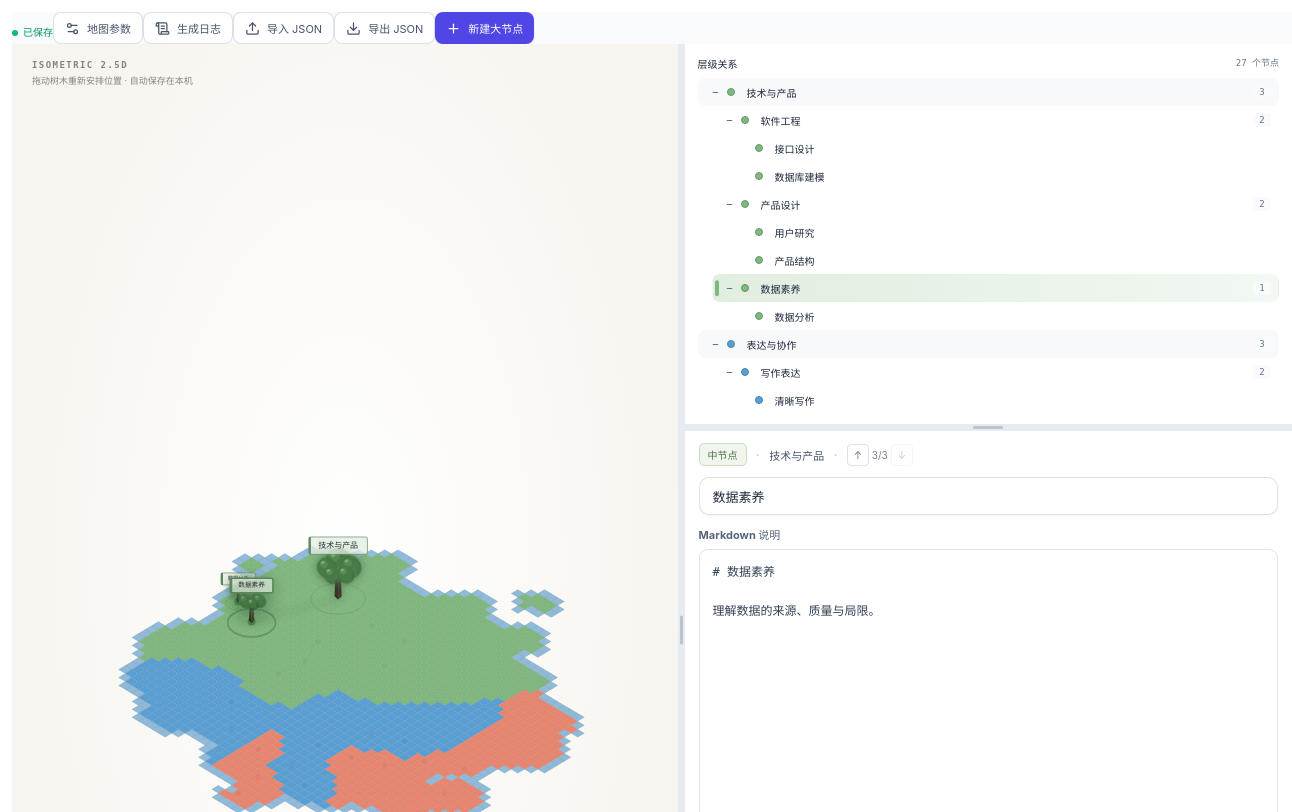
Test: AbilityForestView › shows the isometric map tools and prototype map controls
Click the button "地图参数" at [98, 28], box x1=53 y1=12 x2=143 y2=44
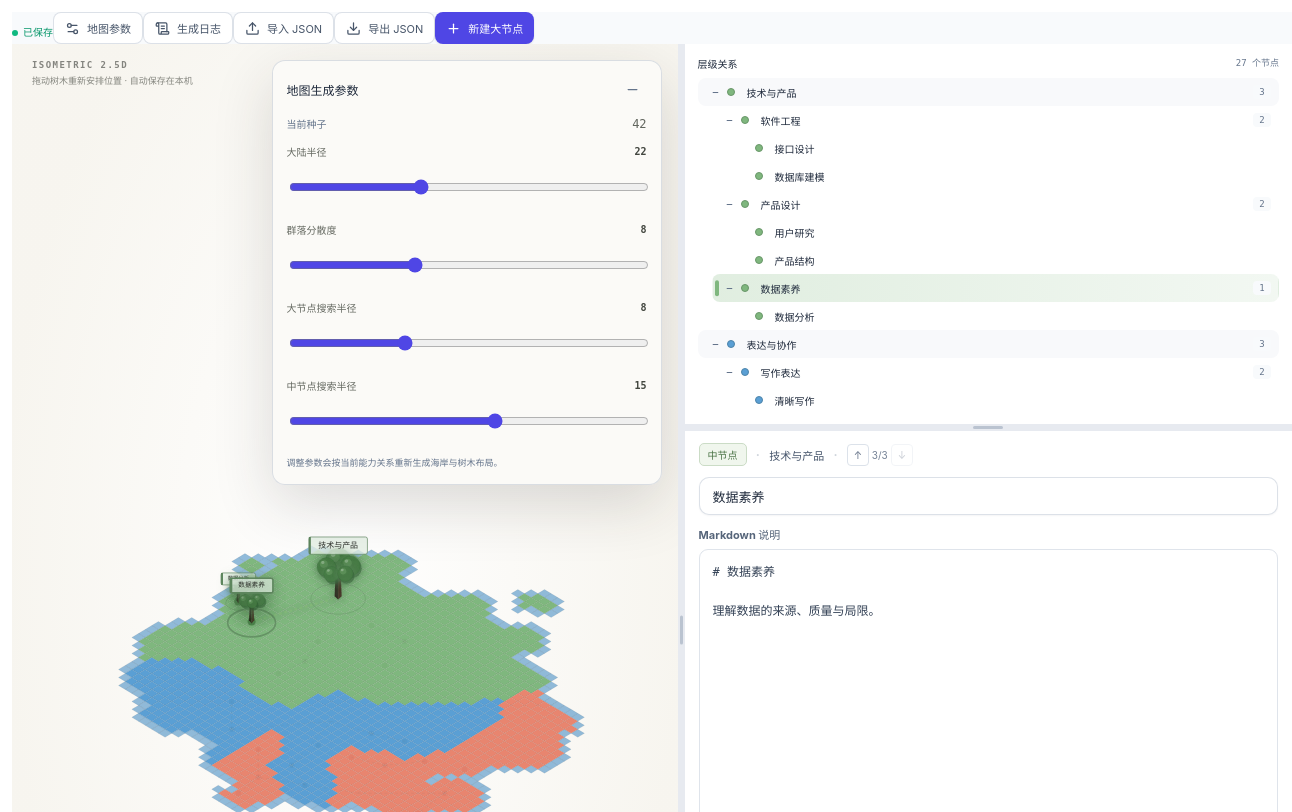
Now the element named "地图生成参数" is shown, box x1=272 y1=60 x2=662 y2=484
Now the number of sliders is 4, box x1=289 y1=167 x2=649 y2=207; x1=289 y1=245 x2=649 y2=285; x1=289 y1=323 x2=649 y2=363; x1=289 y1=401 x2=649 y2=441
